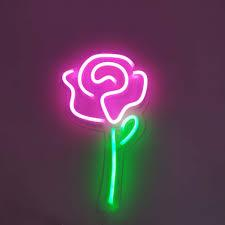Lamp: (59, 54, 153, 218)
